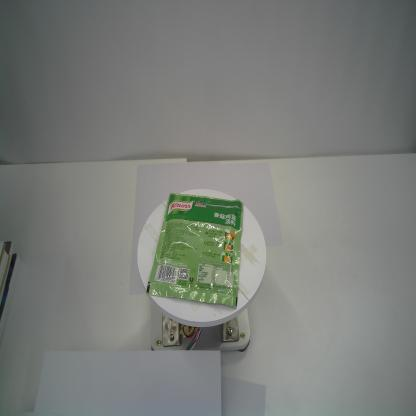Seasoner: (146, 192, 244, 310)
